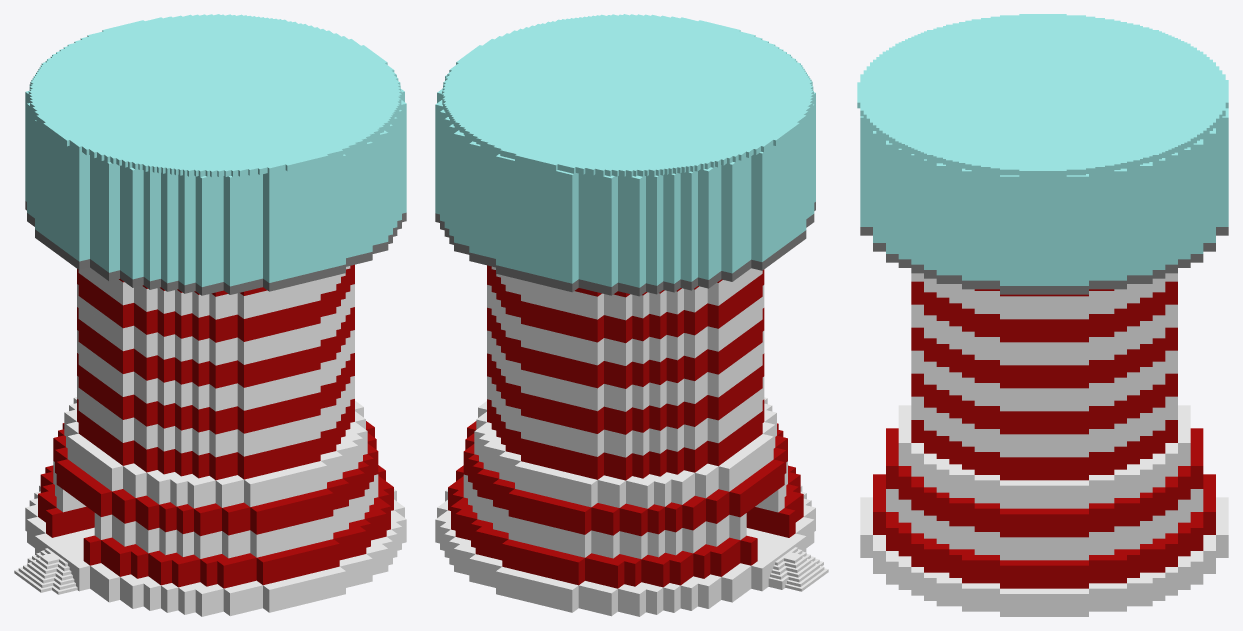
Rendered from Lighthouse.obj.
3 renders of one model, left to right at view 1: azimuth 30°, elevation 25°; view 2: azimuth 150°, elevation 25°; view 3: azimuth 270°, elevation 25°, orthographic.
Bounding box in the file's own units: 12.7 × 15.5 × 11.7.
Materials: 1 (1 with a texture image).
